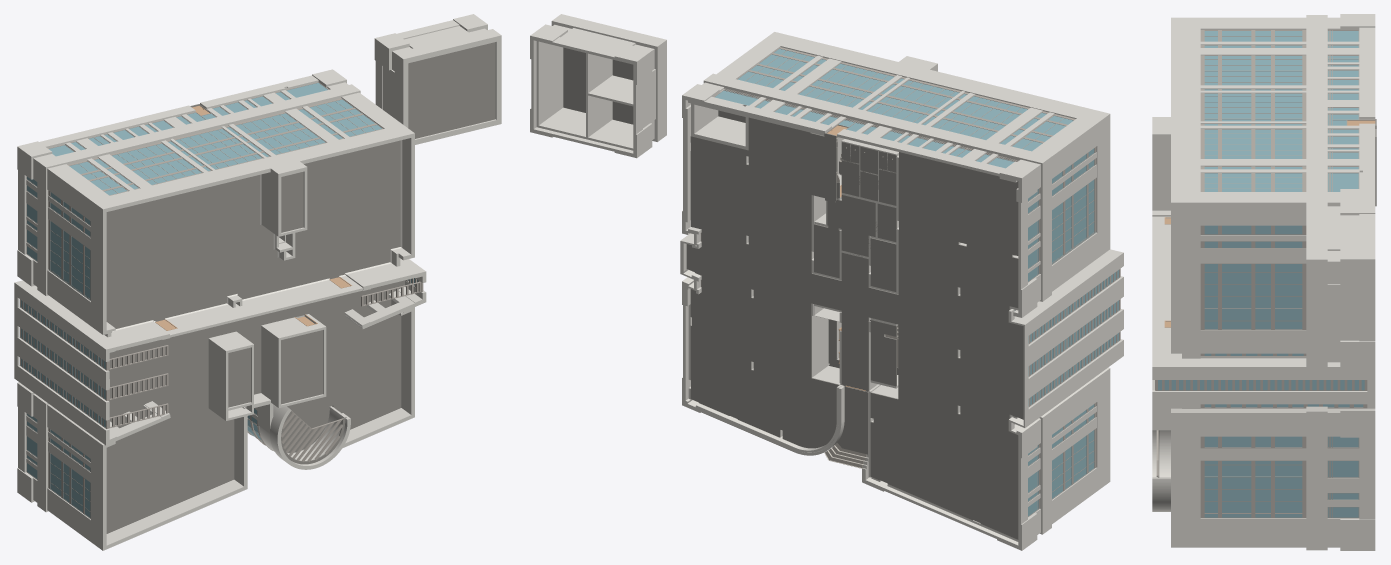
The model's file is niqat-team-architecture.glb.
3 renders of one model, left to right at view 1: azimuth 30°, elevation 25°; view 2: azimuth 150°, elevation 25°; view 3: azimuth 270°, elevation 25°, orthographic. The views are drawn at different scales.
Parts seen in each view (by area): view 1: walls, slabs, glazing, frames; view 2: slabs, walls, glazing, frames, steps; view 3: walls, glazing, frames.
Boxes of the visible parts, x1,y1,x2,y2 form: walls: (14,14,501,550); slabs: (106,42,495,533); glazing: (21,83,417,517); frames: (19,82,423,518); slabs: (563,47,1023,539); walls: (530,14,1123,550); glazing: (715,49,1118,516); frames: (700,47,1120,516); steps: (824,137,898,468); walls: (1152,14,1375,550); glazing: (1158,31,1364,517); frames: (1155,30,1375,518).
Bounding box in the file's own units: 48.18 × 36.77 × 16.75.
